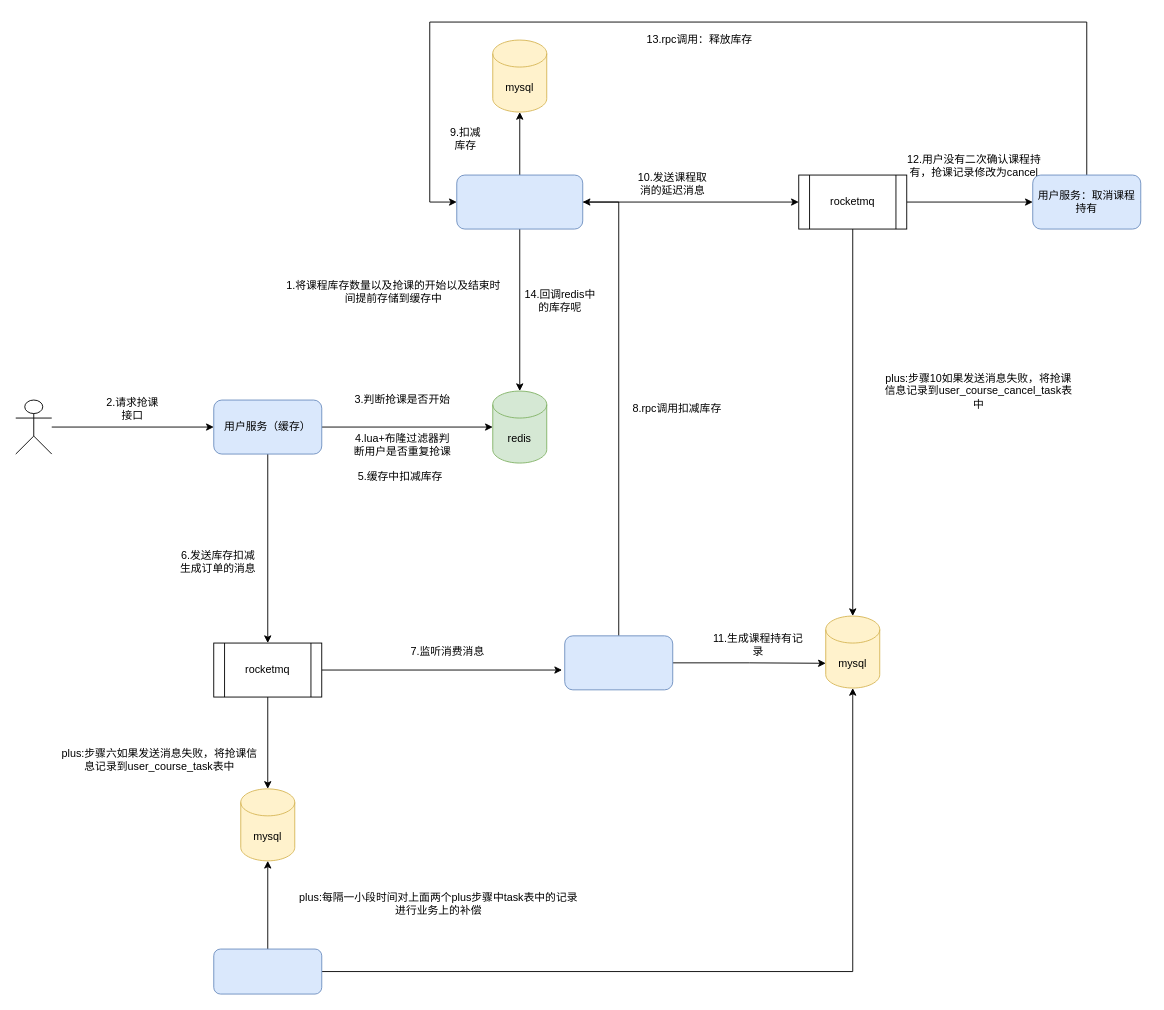
Image size: 1164x1010. Some labels were removed from this diagram. The shapes that lost their labels are listed below. From the top down, each one's box as (x1, y1, x2, y2) in pixels, then its label:
(456, 174, 583, 229): 课程服务
(15, 399, 52, 454): 用户
(564, 635, 673, 690): 用户服务(db)
(213, 948, 322, 994): 用户服务：补偿任务
